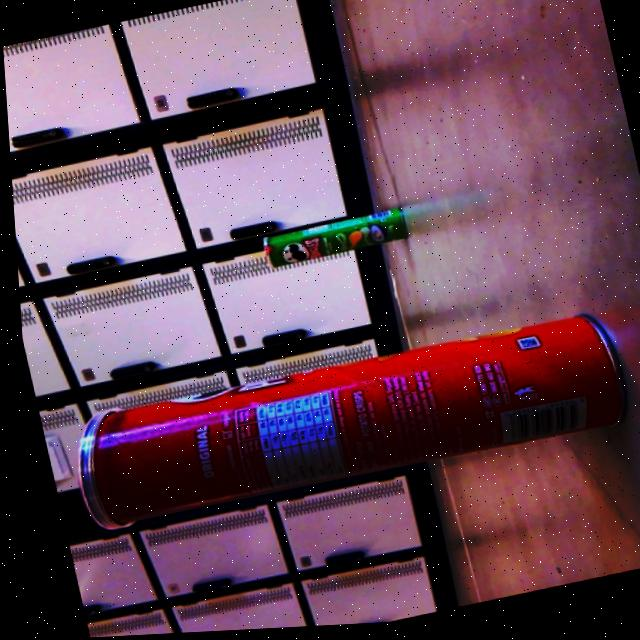greenpringles: (214, 181, 420, 296)
redpringles: (32, 270, 640, 572)
